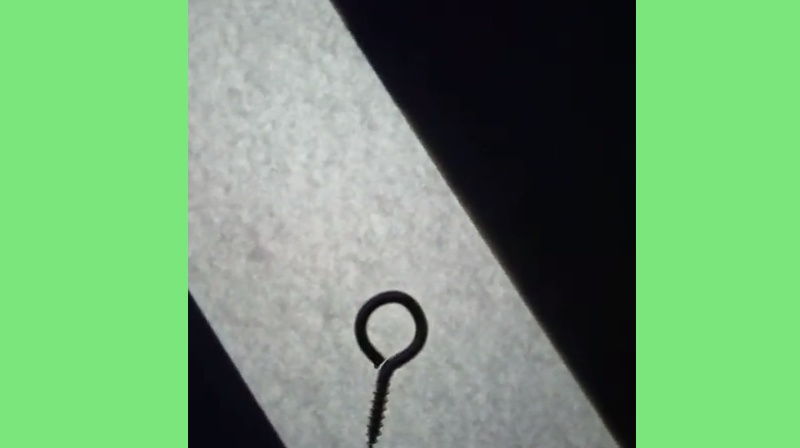O001: (351, 283, 429, 447)
